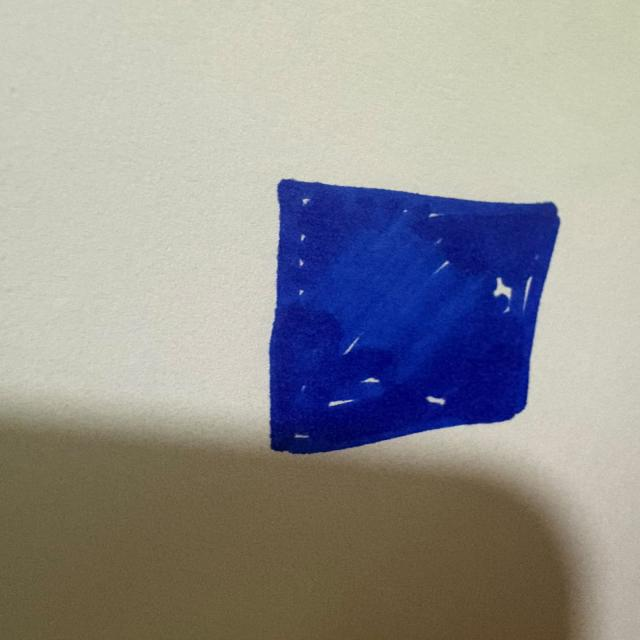Square: (266, 176, 560, 454)
